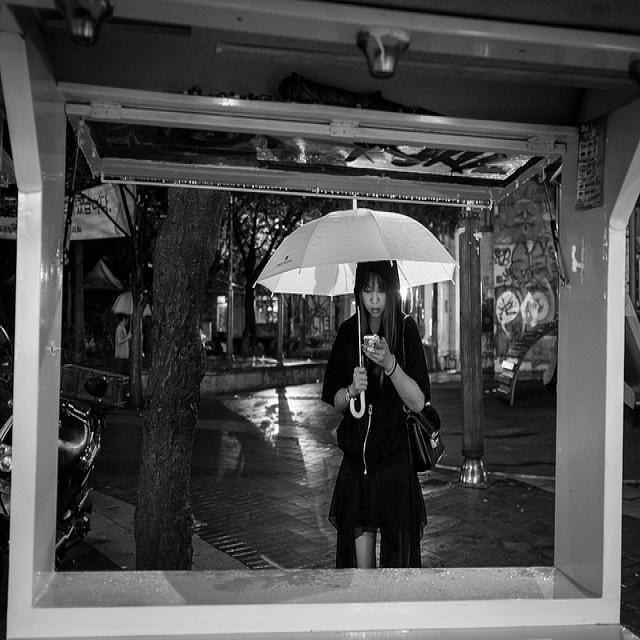motor: (0, 319, 108, 568)
